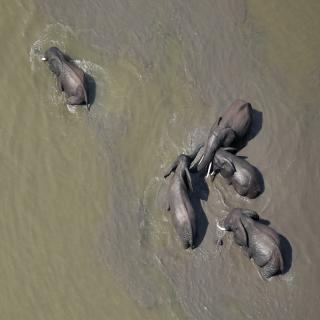Elephant: (214, 207, 293, 282), (157, 138, 206, 250), (194, 98, 268, 166), (42, 41, 98, 118), (212, 144, 270, 203)
